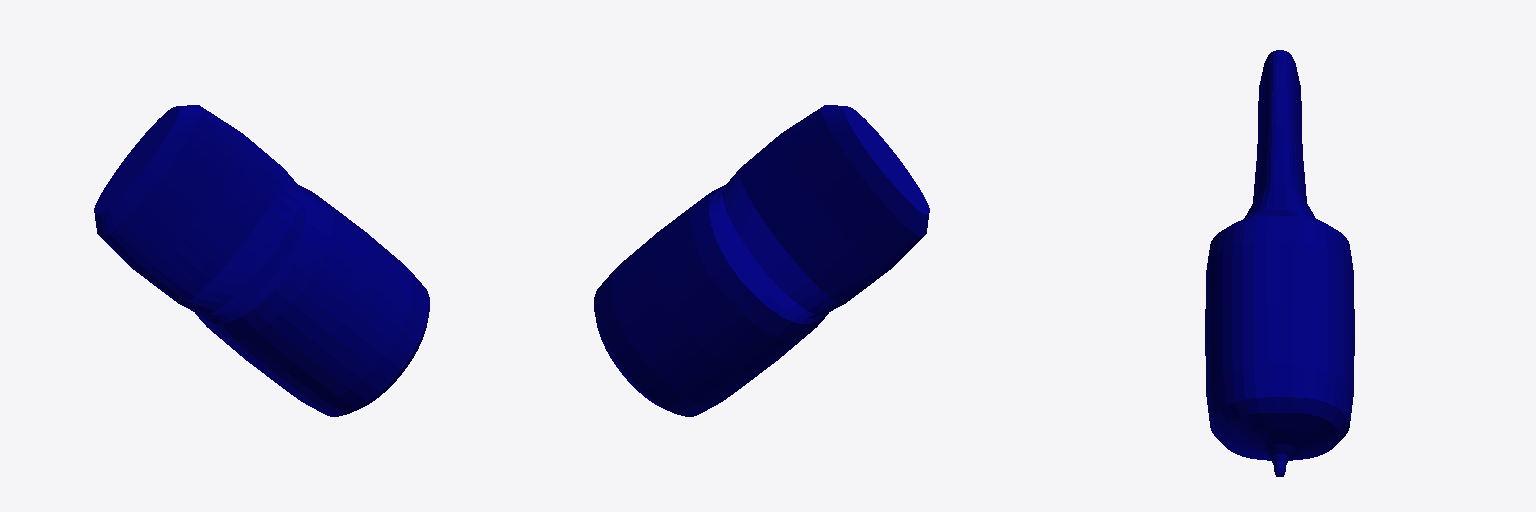
File: lamp.obj
3 renders of one model, left to right at view 1: azimuth 30°, elevation 25°; view 2: azimuth 150°, elevation 25°; view 3: azimuth 270°, elevation 25°, orthographic.
Visible parts, largest first — view 1: Cylinder011; view 2: Cylinder011; view 3: Cylinder011.
Boxes of the visible parts, <box> form: Cylinder011: <box>94,105,429,416</box>; Cylinder011: <box>594,105,929,416</box>; Cylinder011: <box>1205,50,1354,476</box>.
Size of the model in its own units: 3.61 by 3.61 by 1.46.